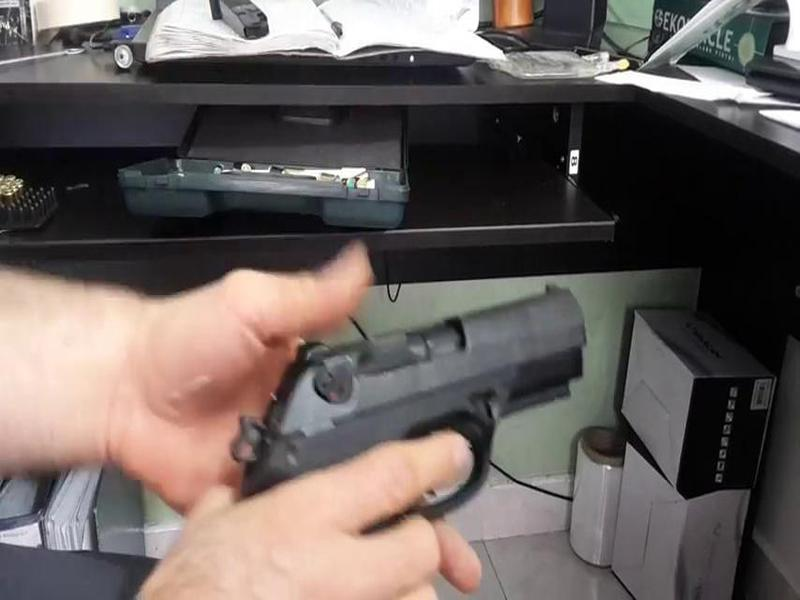Pistola: (200, 272, 609, 538)
